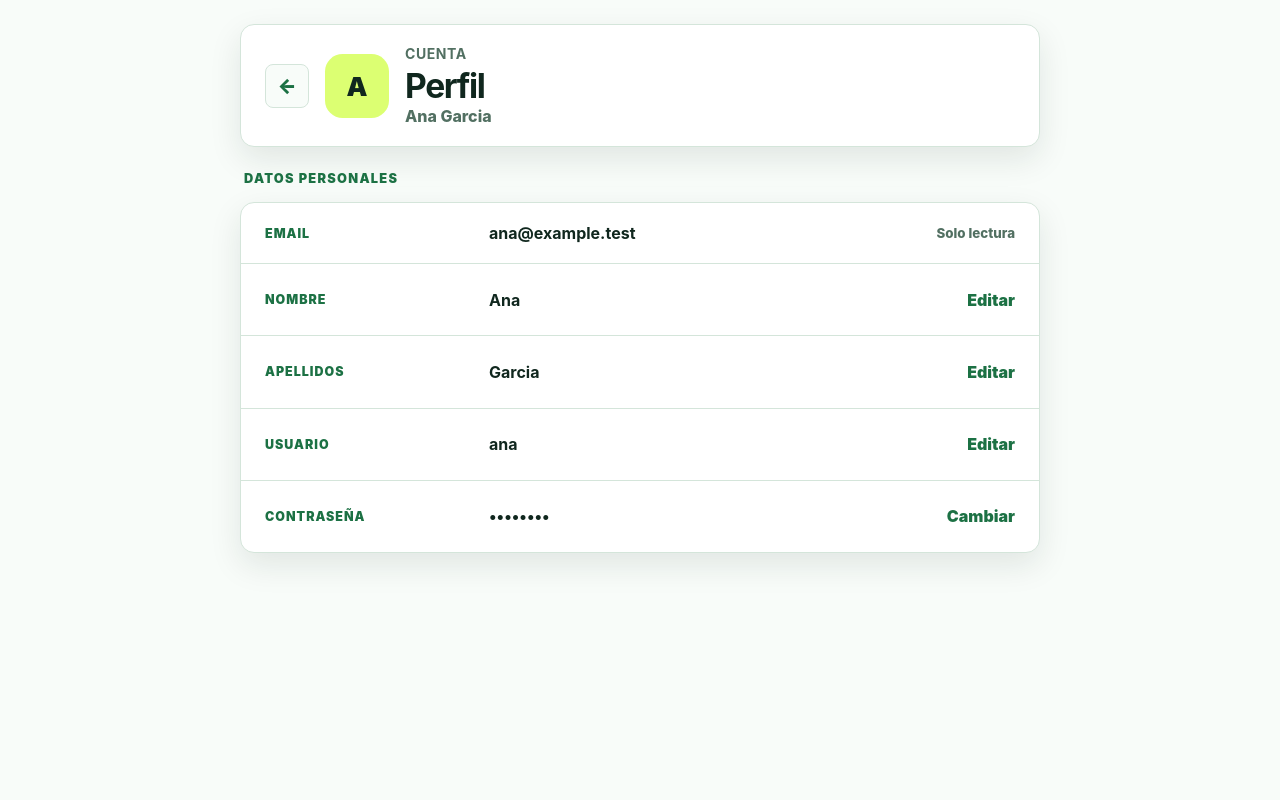
ProfilePage › updates editable profile fields and refreshes the session user
Click the button "Editar" in the row of "Nombre" at (991,300), box [967,284,1015,315]
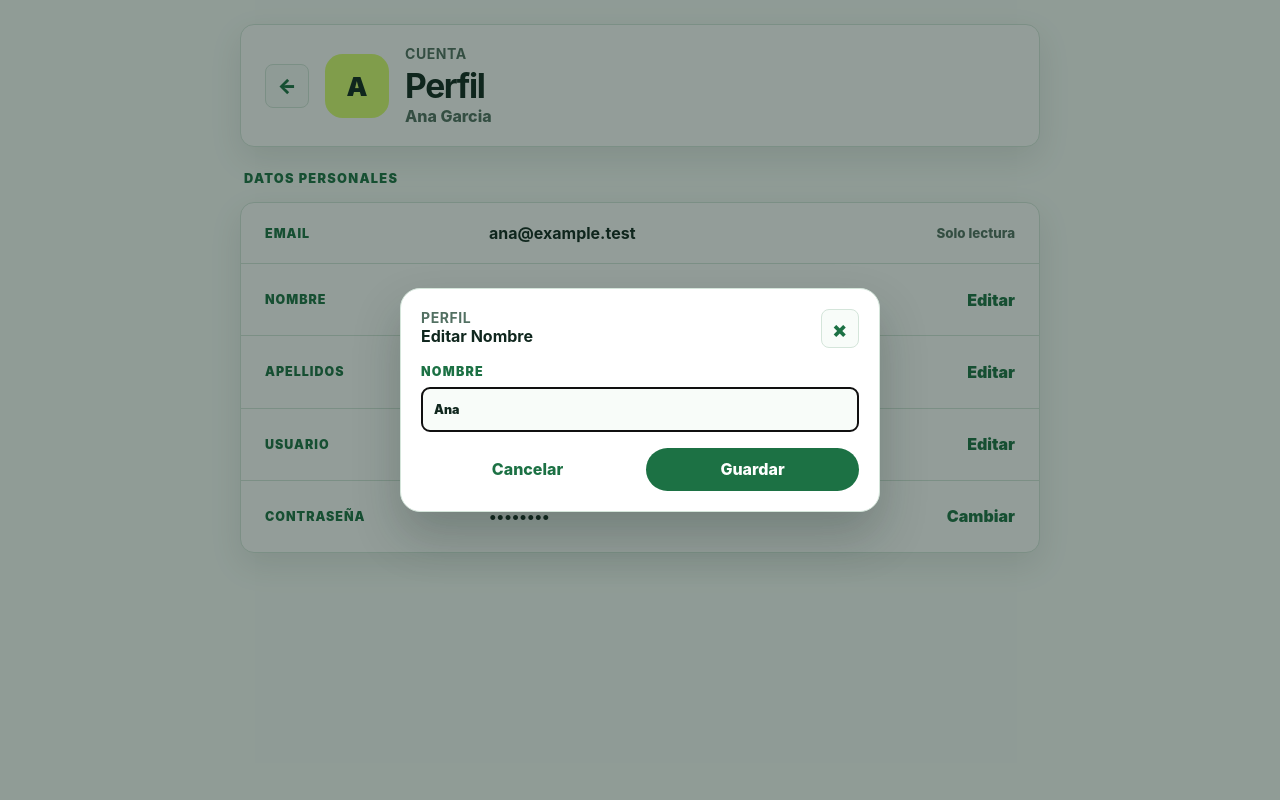
Replace the text in the field labelled "Nombre" with "Anita" at (640,410), box [421,387,859,432]
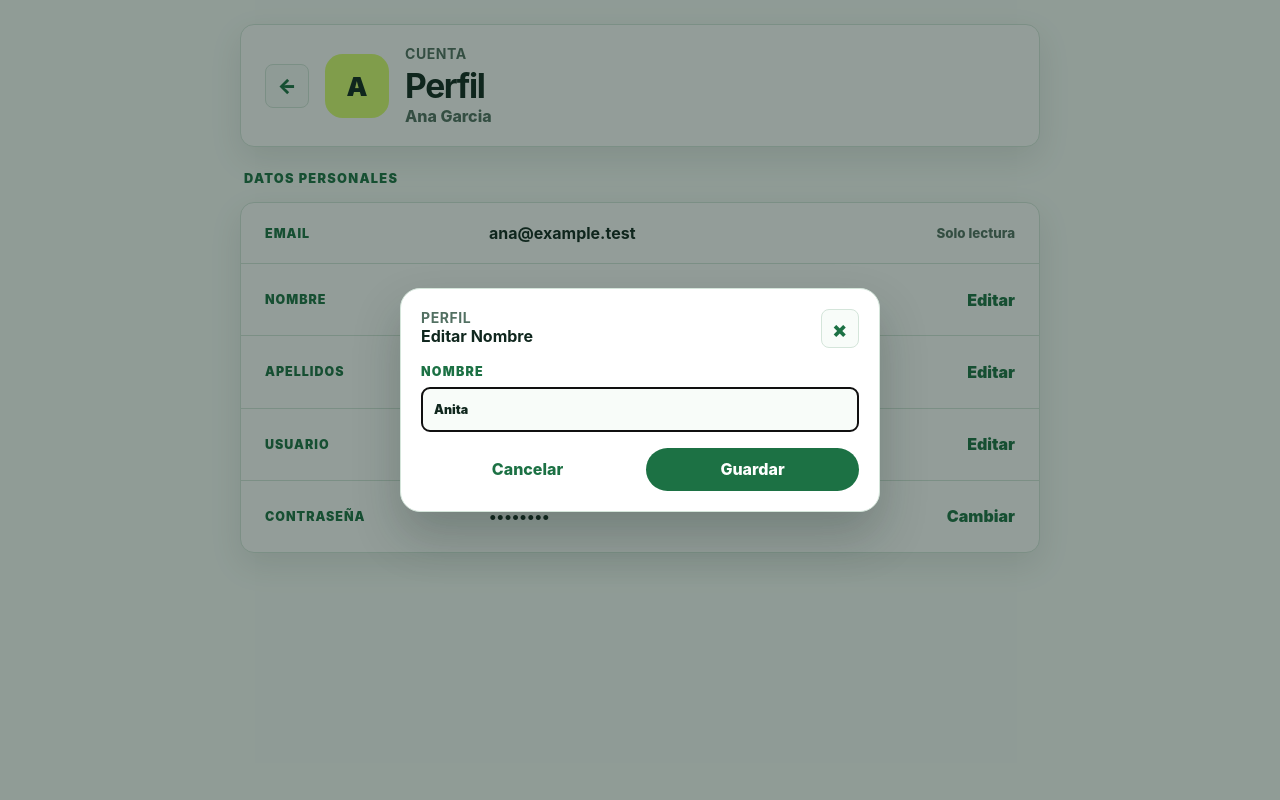
Click the button "Guardar" at (752,470), box [646,448,859,491]
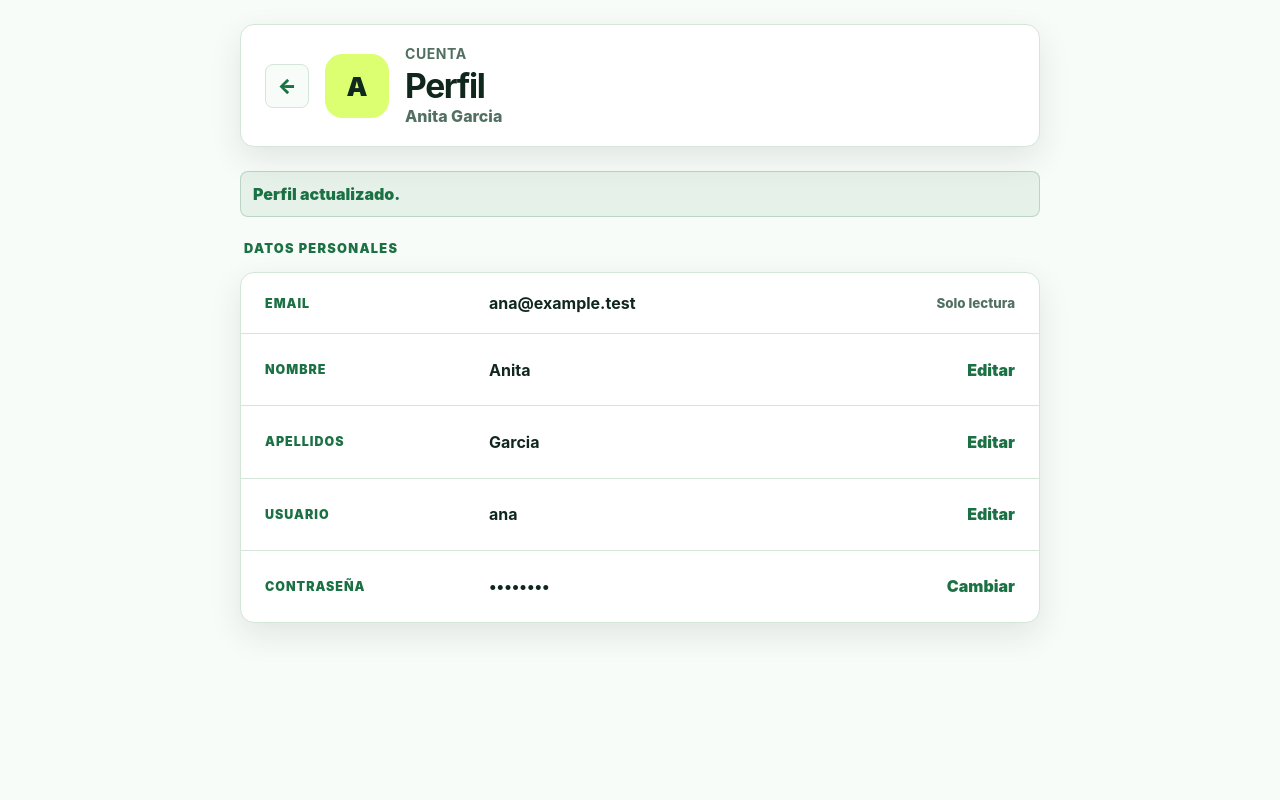
Now the text "Perfil actualizado." is shown, box [240,171,1040,217]
Now the text "Anita" is shown, box [489,360,530,380]
